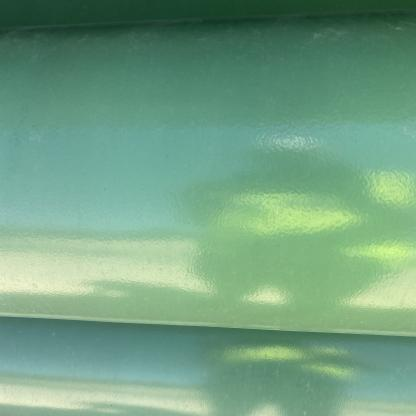clean: (138, 99, 228, 168)
